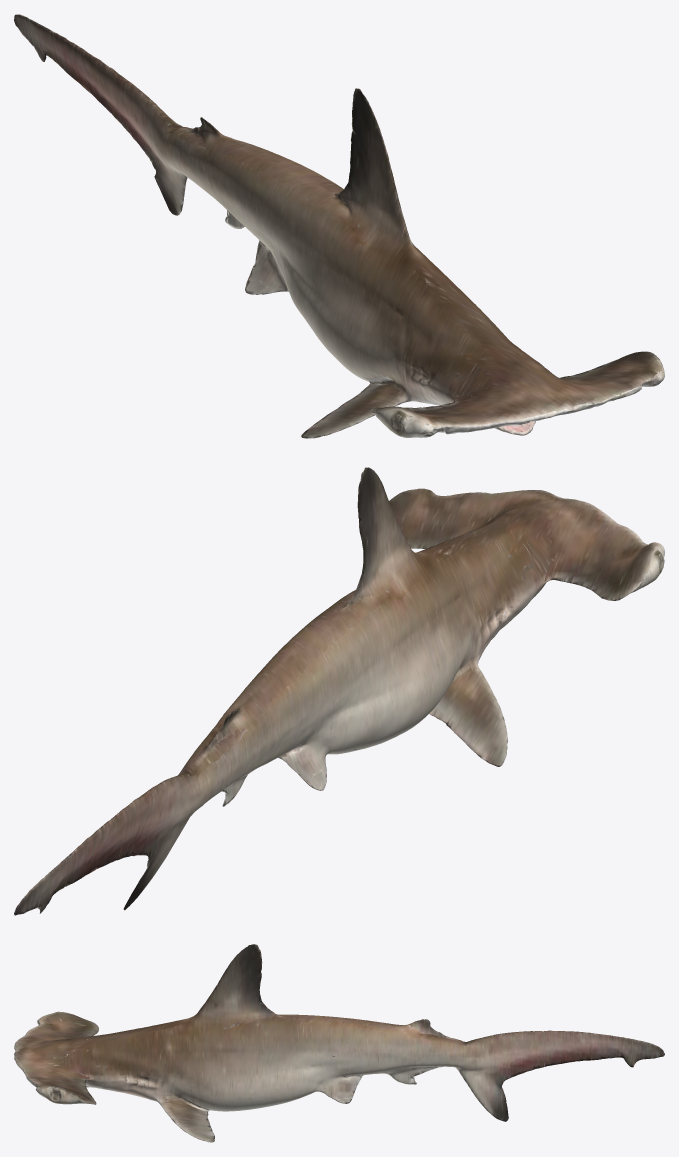
The model's file is same.glb.
The picture shows the model from 3 angles, top to bottom: view 1: azimuth 30°, elevation 25°; view 2: azimuth 150°, elevation 25°; view 3: azimuth 270°, elevation 25°; orthographic projection. The views are drawn at different scales.
Parts seen in each view (by area): view 1: Object_6.001; view 2: Object_6.001; view 3: Object_6.001.
Boxes of the visible parts, x1=… form: Object_6.001: x1=14, y1=14, x2=664, y2=438; Object_6.001: x1=14, y1=467, x2=664, y2=915; Object_6.001: x1=14, y1=944, x2=664, y2=1142.
Bounding box in the file's own units: 1.14 × 1.2 × 4.
Materials: 1 (1 with a texture image).
